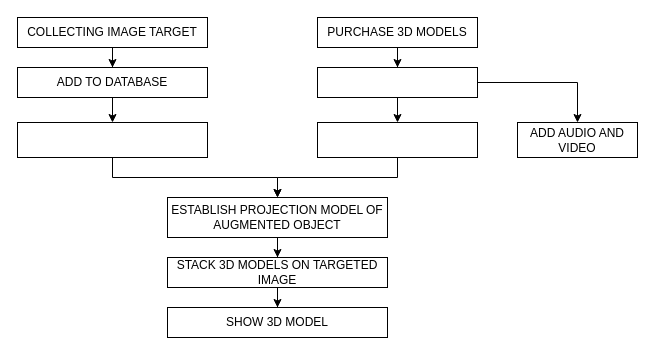
Some shapes in this 655 by 355 pixel diagram are drawn without their labels. The centre of each missing label's shape, as x and y in pixels:
IMPORT 3D MODELS: [397,82]
MAKE ANIMATED MODELS USING SCRIPTS: [397,140]
SET CAMERA FOR TARGETING IMAGE: [112,140]
